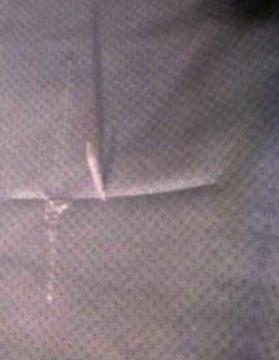snag: (73, 133, 125, 220)
